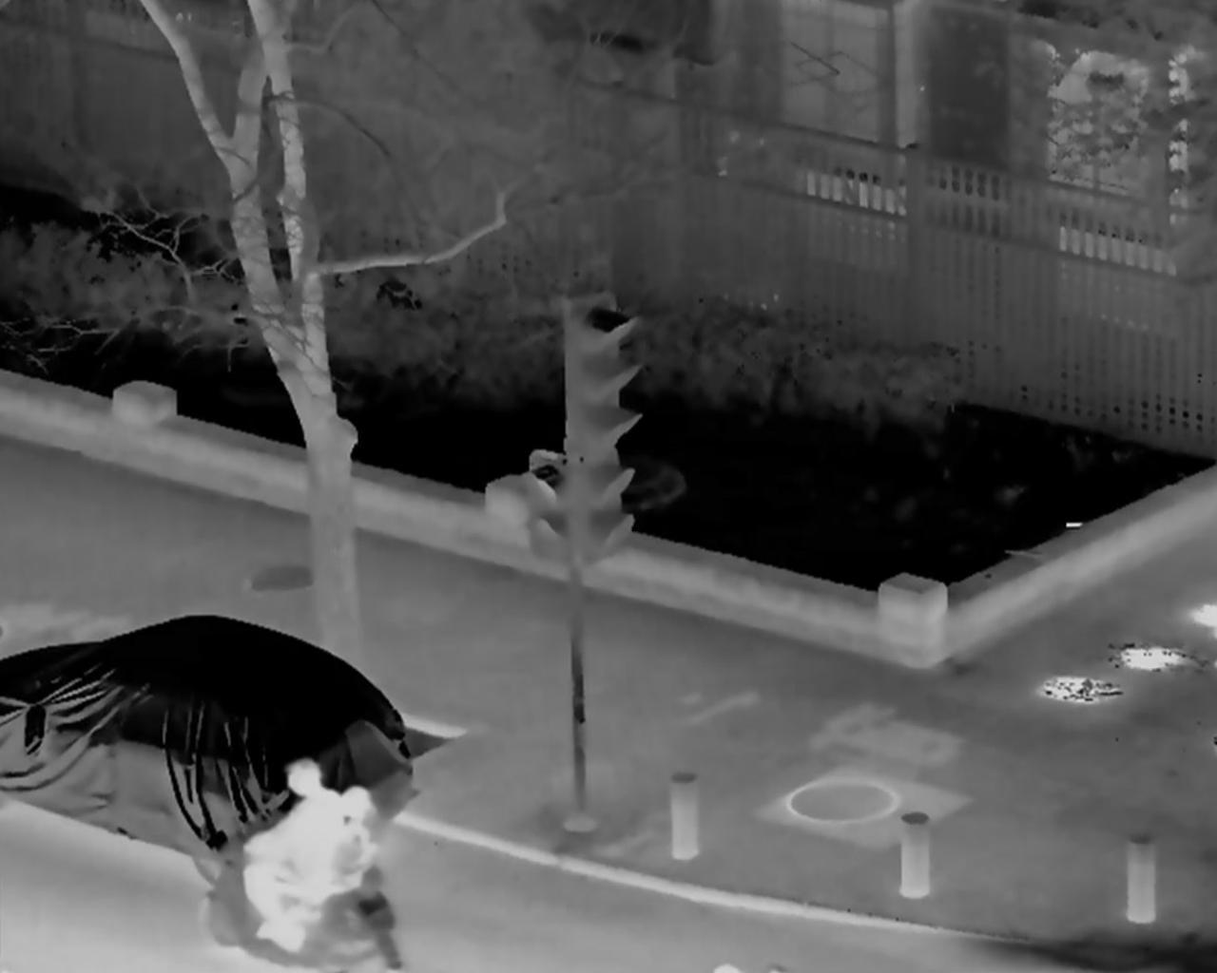person: (242, 763, 340, 941), (293, 786, 385, 945)
